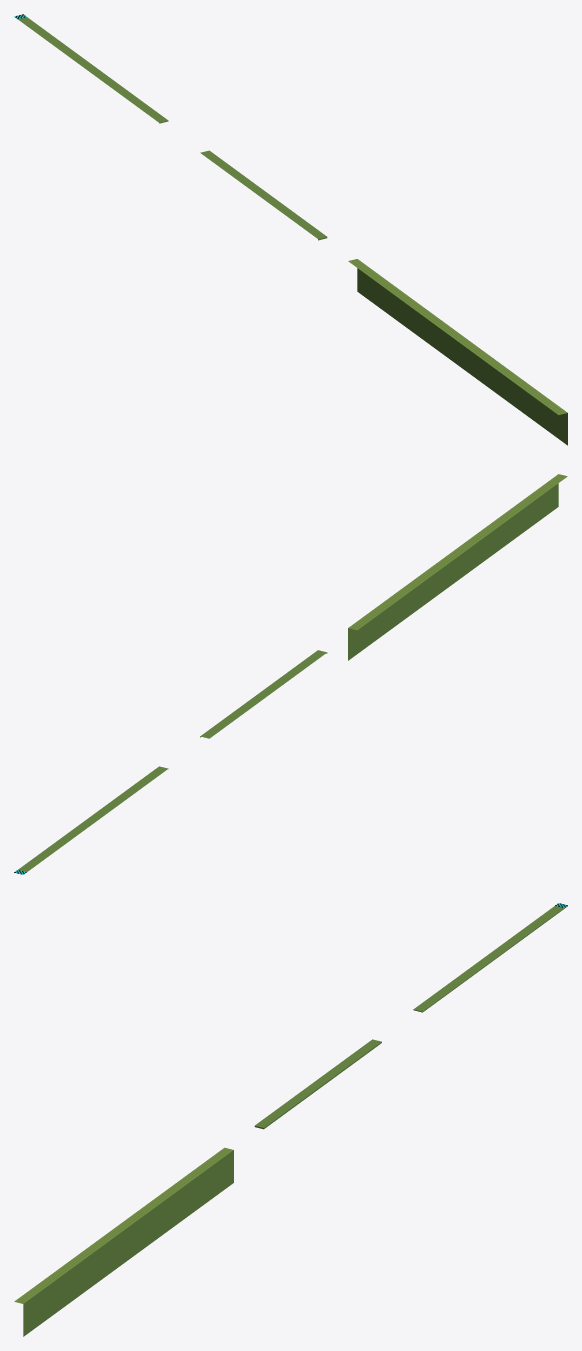
The model's file is Roud Lvl3.fbx.
3 views of the same model, one above another, from view 1: azimuth 30°, elevation 25°; view 2: azimuth 150°, elevation 25°; view 3: azimuth 330°, elevation 25° (orthographic).
Visible parts, largest first — view 1: roud; view 2: roud; view 3: roud.
Part boxes in pixels (box(x1,y1,x2,y2)): roud: box(18, 17, 567, 445); roud: box(14, 474, 567, 872); roud: box(14, 906, 567, 1336).
Bounding box in the file's own units: 600 × 2010 × 60000.
